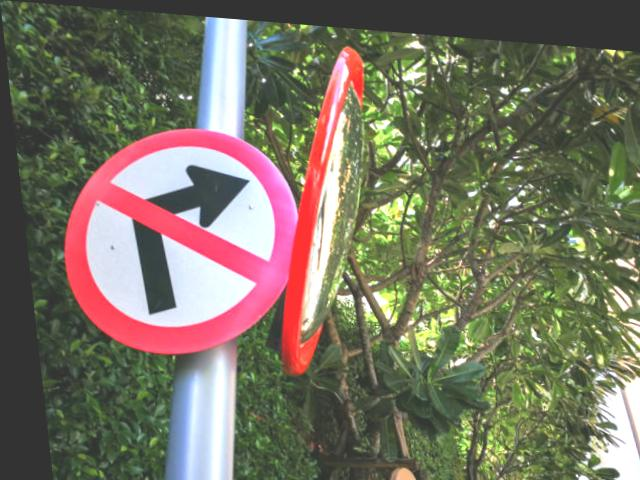not_turn_right: (51, 123, 293, 335)
